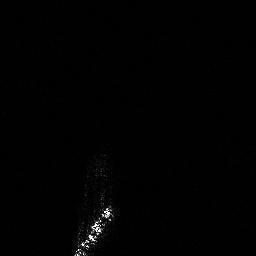ship: (62, 204, 119, 256)
